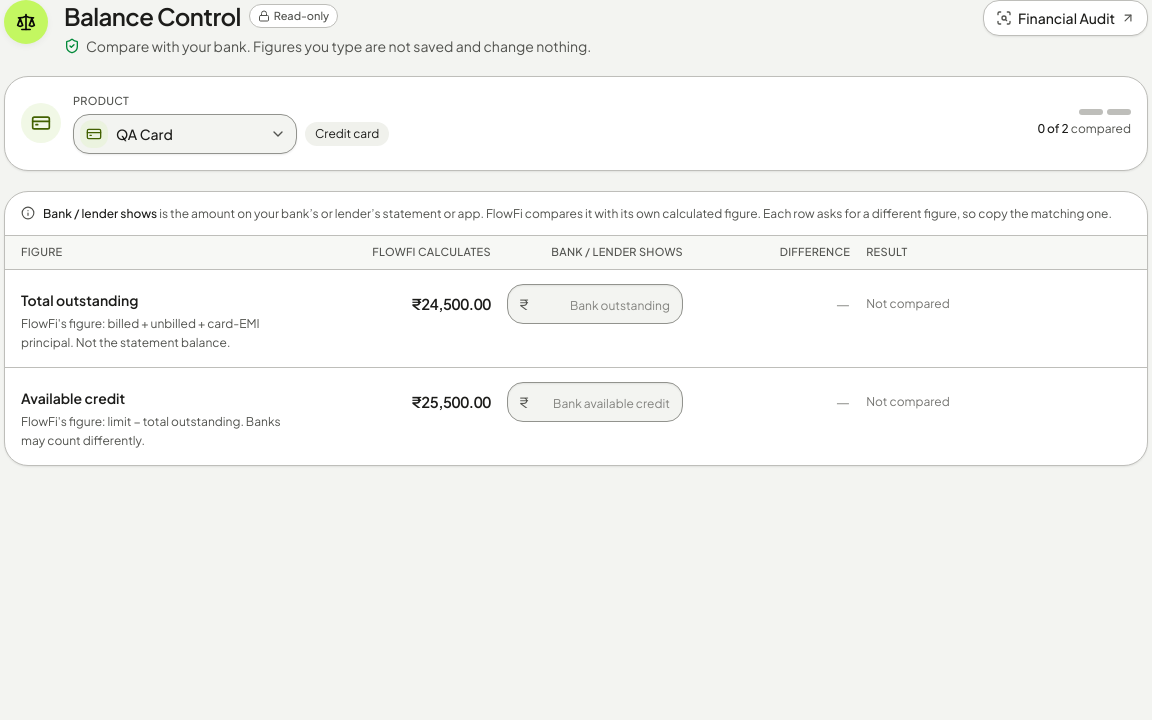
reconciliation sheet › card-EMI lock is explained with no action when this card actually has locked principal
The image size is (1152, 720).
Type "25200" into the field with test id "bank-input" at (595, 304), box [507,284,683,324]
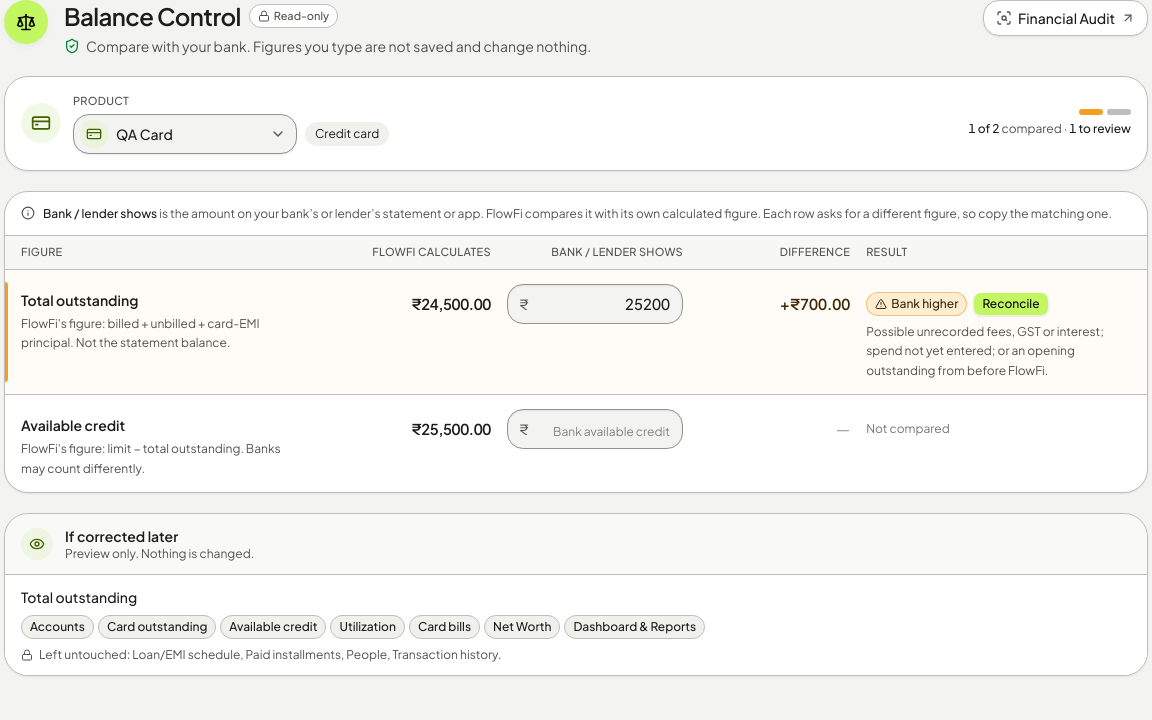
Click the button with test id "reconcile-button" at (1011, 304), box [973,292,1048,316]
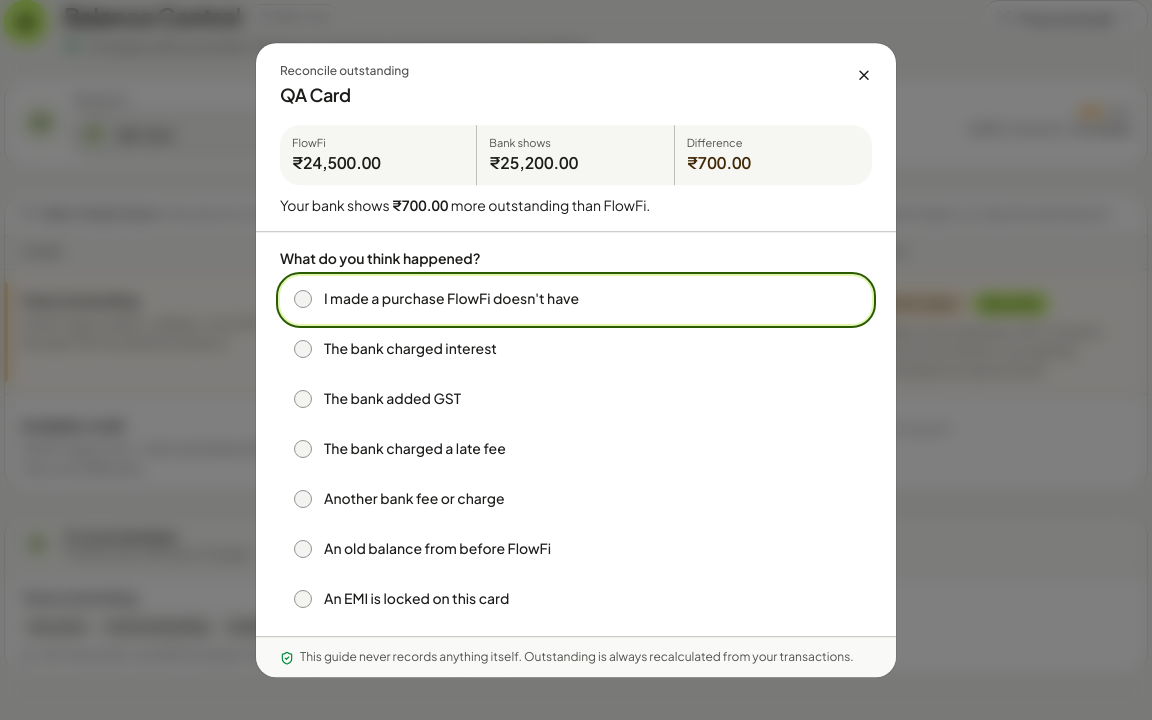
Click the radio button with test id "cause-cardEmiOrSharedLimit" at (417, 598), box [280,576,872,624]
(page scrolled)
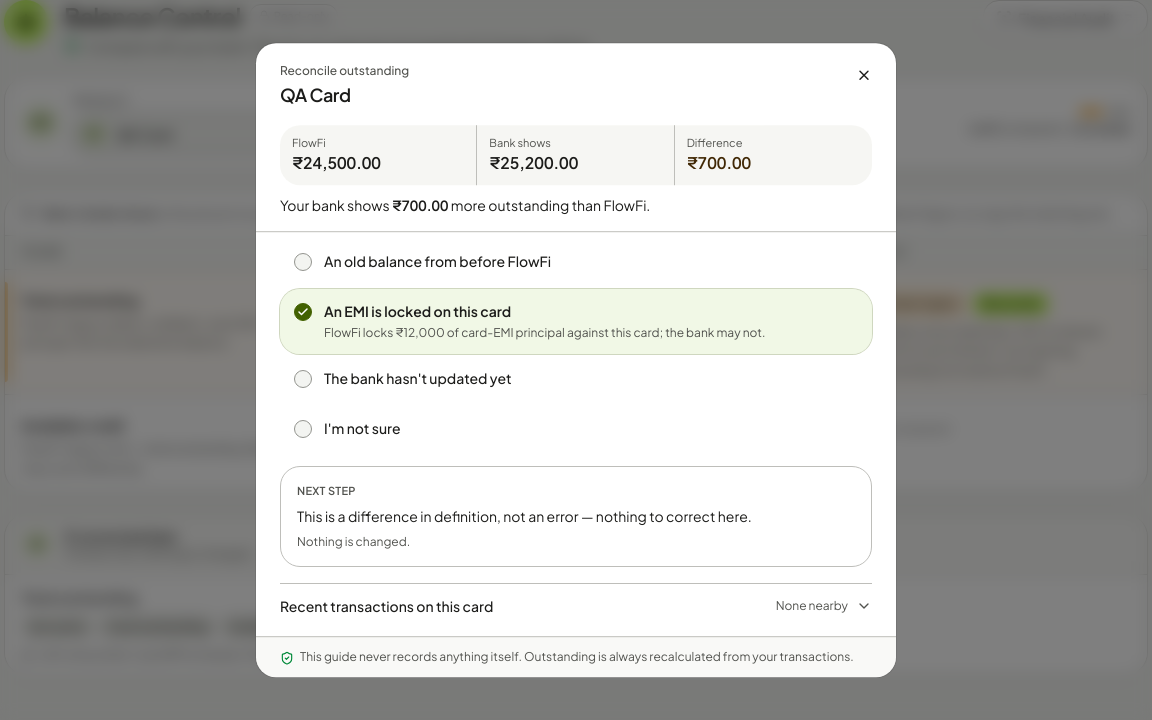
expect the element with test id "resolution-panel" shows "Nothing is changed": met, box [297,534,410,549]
